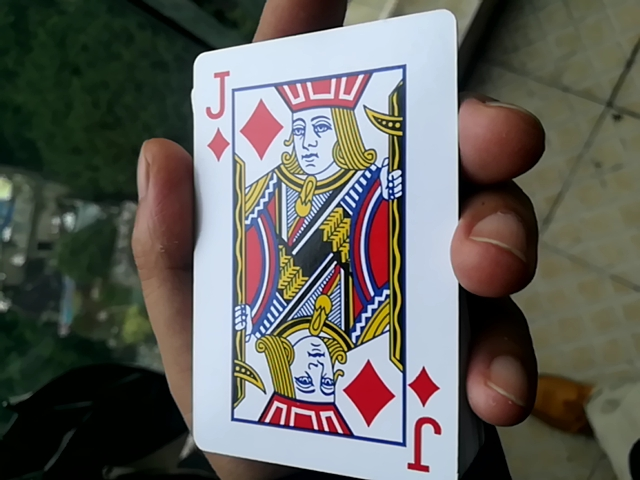fk j: (184, 4, 460, 468)
